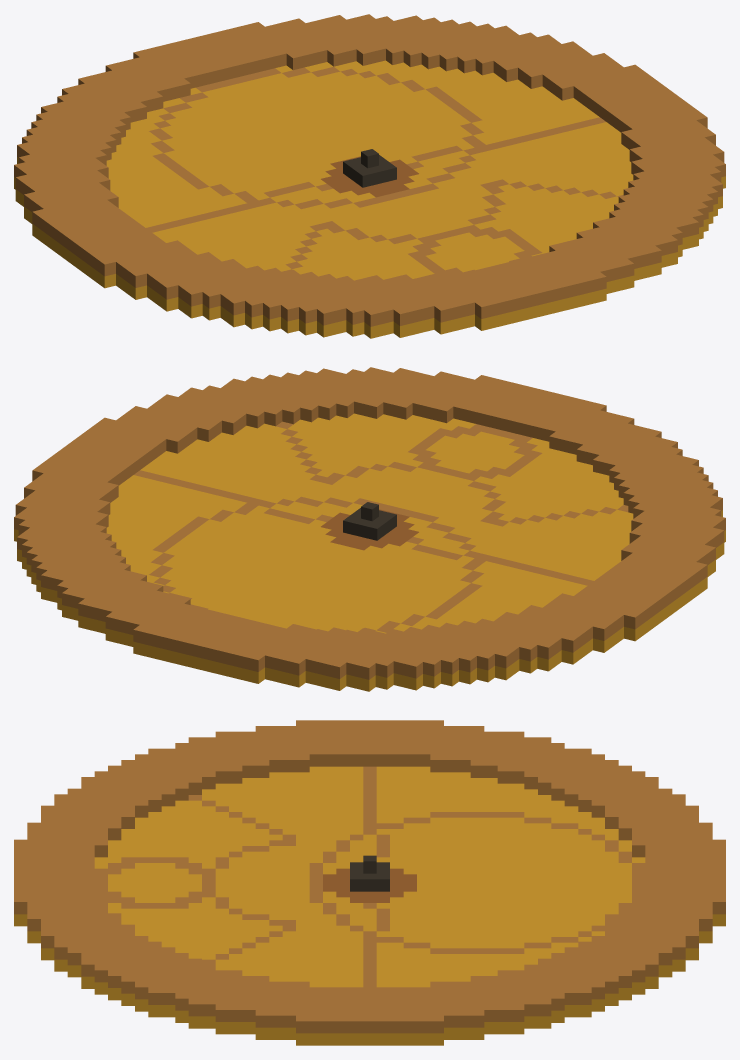
Rendered from obj_meridiana.obj.
3 views of the same model, one above another, from view 1: azimuth 30°, elevation 25°; view 2: azimuth 150°, elevation 25°; view 3: azimuth 270°, elevation 25° (orthographic). The views are drawn at different scales.
Visible parts, largest first — view 1: obj_meridiana; view 2: obj_meridiana; view 3: obj_meridiana.
Boxes of the visible parts, x1=… form: obj_meridiana: x1=14, y1=14, x2=725, y2=338; obj_meridiana: x1=14, y1=367, x2=725, y2=691; obj_meridiana: x1=14, y1=720, x2=725, y2=1045.
Bounding box in the file's own units: 53 × 4 × 53.
Materials: 1 (1 with a texture image).
